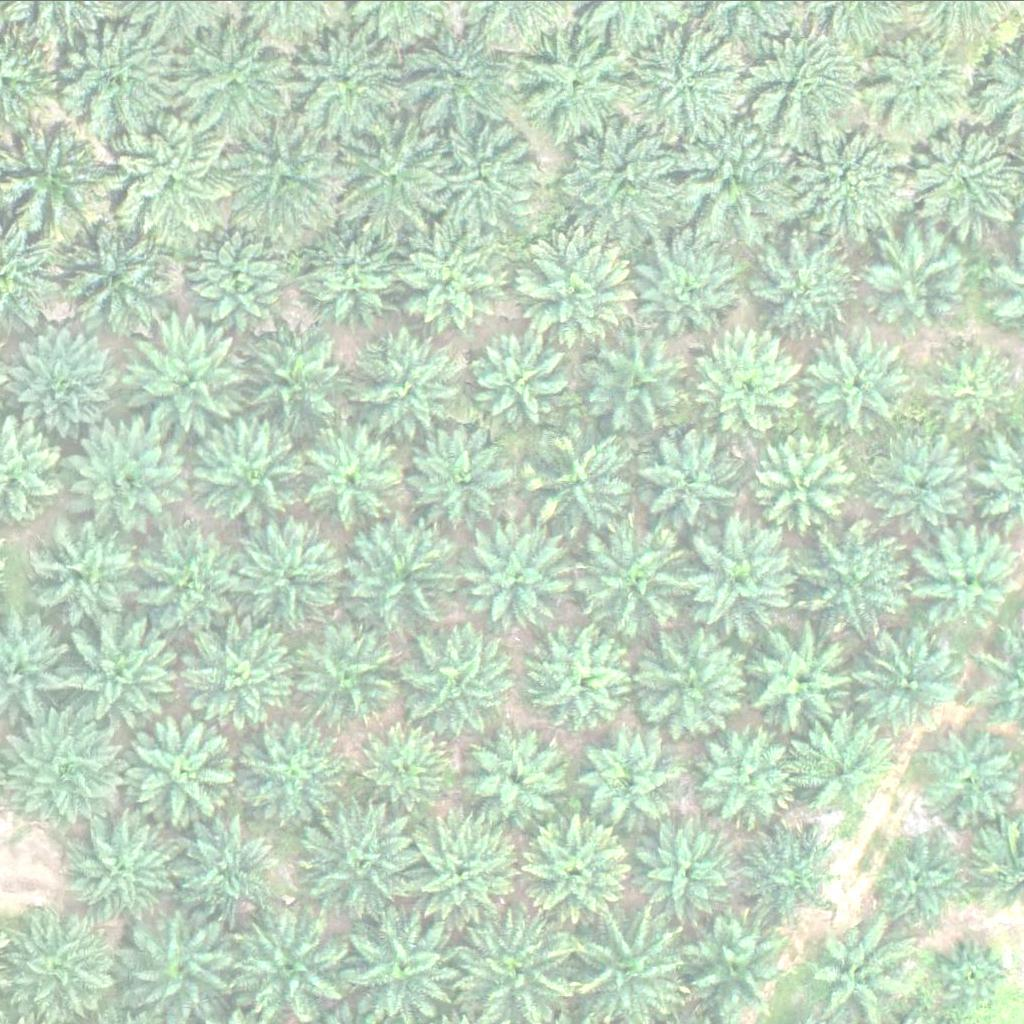Kelapa_Sawit: (53, 206, 179, 331), (123, 107, 249, 232), (300, 806, 426, 931), (682, 513, 808, 638), (506, 224, 632, 349), (623, 228, 749, 353), (564, 111, 690, 236), (675, 111, 801, 236), (51, 14, 177, 139), (394, 11, 520, 136), (784, 114, 910, 239), (749, 23, 875, 148), (131, 317, 256, 442), (325, 103, 450, 228), (627, 16, 752, 141), (72, 421, 186, 534), (26, 515, 140, 628), (139, 519, 253, 632), (66, 812, 180, 925), (8, 907, 122, 1020), (170, 813, 284, 926), (237, 711, 351, 824), (402, 618, 516, 731), (183, 27, 297, 140), (524, 627, 637, 740), (637, 624, 750, 737), (193, 416, 306, 529), (353, 327, 466, 440), (803, 524, 916, 637), (286, 22, 399, 135), (524, 31, 637, 144), (64, 619, 178, 731), (132, 716, 246, 828), (133, 905, 247, 1017), (293, 617, 407, 729), (456, 521, 570, 633), (579, 523, 693, 635), (530, 426, 644, 538), (697, 326, 811, 438), (4, 327, 117, 439), (10, 711, 123, 823), (233, 904, 346, 1016), (412, 811, 525, 923), (513, 811, 626, 923), (178, 618, 291, 730), (233, 516, 346, 628), (353, 517, 466, 629), (396, 225, 509, 337), (432, 117, 545, 229), (638, 817, 739, 917), (464, 725, 565, 825), (587, 727, 688, 827), (299, 428, 400, 528), (406, 430, 507, 530), (251, 329, 352, 429), (474, 328, 575, 428), (181, 223, 282, 323), (306, 228, 407, 328), (232, 122, 333, 222), (878, 431, 979, 531), (918, 530, 1019, 630), (754, 626, 855, 726), (851, 633, 952, 733), (922, 725, 1023, 825), (787, 716, 888, 816), (699, 729, 800, 829), (740, 825, 841, 925), (872, 825, 973, 925), (797, 923, 898, 1023), (867, 36, 968, 136), (358, 717, 458, 817), (635, 424, 735, 524), (589, 334, 689, 434), (761, 237, 861, 337), (869, 229, 969, 329), (811, 330, 911, 430), (756, 433, 856, 533), (931, 341, 1019, 429), (939, 935, 1015, 1010)
